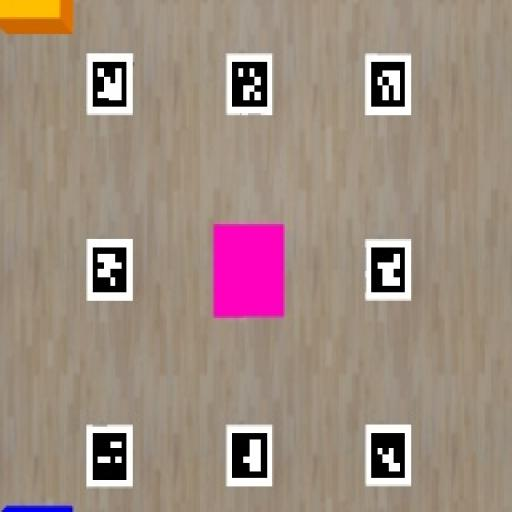car: (213, 224, 284, 317), (2, 504, 73, 511)
fire: (0, 0, 73, 34)
